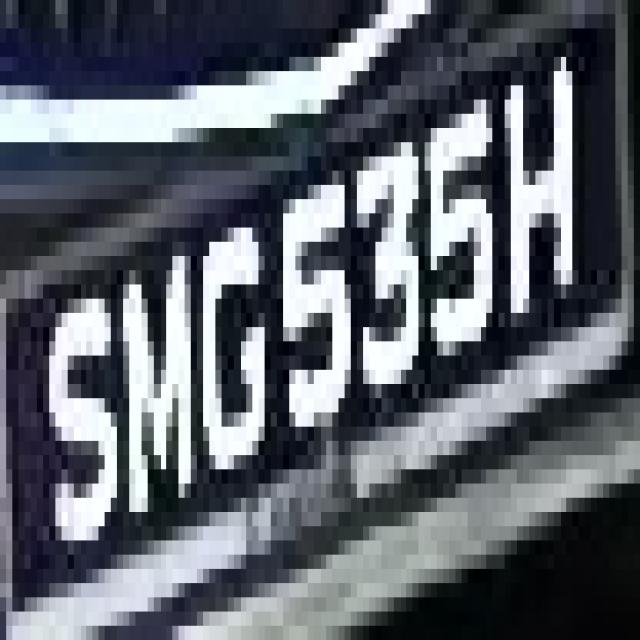3: (339, 100, 443, 427)
5: (418, 57, 498, 398), (271, 156, 357, 441)
G: (179, 170, 283, 554)
H: (492, 28, 597, 356)
M: (111, 228, 203, 526)
S: (31, 284, 117, 598)
